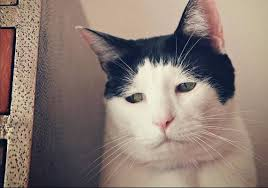cat: (69, 7, 247, 163)
